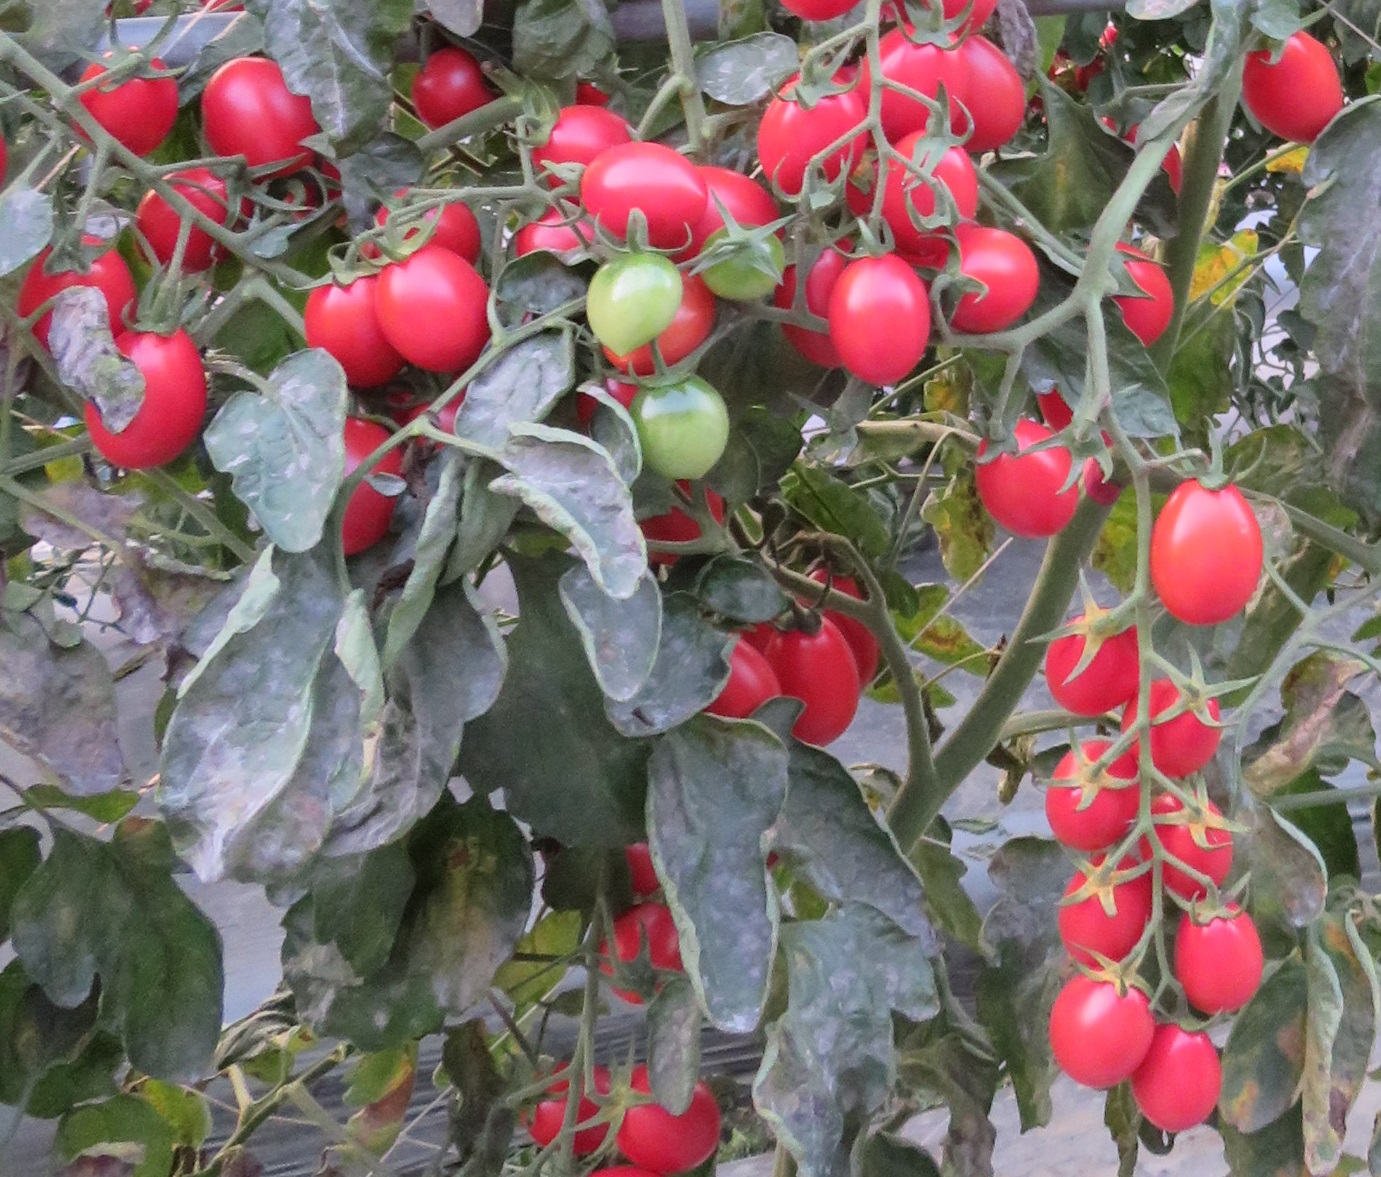green: (584, 245, 689, 355), (641, 362, 733, 478), (703, 221, 790, 307)
red: (89, 316, 202, 471), (972, 422, 1094, 550), (374, 243, 498, 367), (1152, 482, 1258, 626), (830, 243, 933, 385), (758, 68, 874, 191), (196, 60, 312, 179), (1058, 849, 1162, 978), (28, 237, 141, 349), (571, 145, 712, 234), (1177, 887, 1272, 1017), (1046, 976, 1155, 1089), (1244, 27, 1349, 144), (65, 44, 179, 149), (1141, 787, 1239, 904), (608, 1079, 732, 1170), (779, 621, 869, 743), (1042, 607, 1143, 715), (777, 249, 864, 371), (1132, 1021, 1223, 1134), (873, 135, 978, 234), (1093, 241, 1180, 357), (137, 170, 233, 276), (939, 228, 1045, 322), (1047, 738, 1138, 843), (297, 272, 382, 382), (608, 906, 698, 1007), (339, 416, 402, 557), (963, 33, 1035, 148), (381, 189, 486, 269), (877, 28, 958, 128), (1127, 685, 1225, 767), (710, 638, 779, 727), (410, 53, 482, 118)
